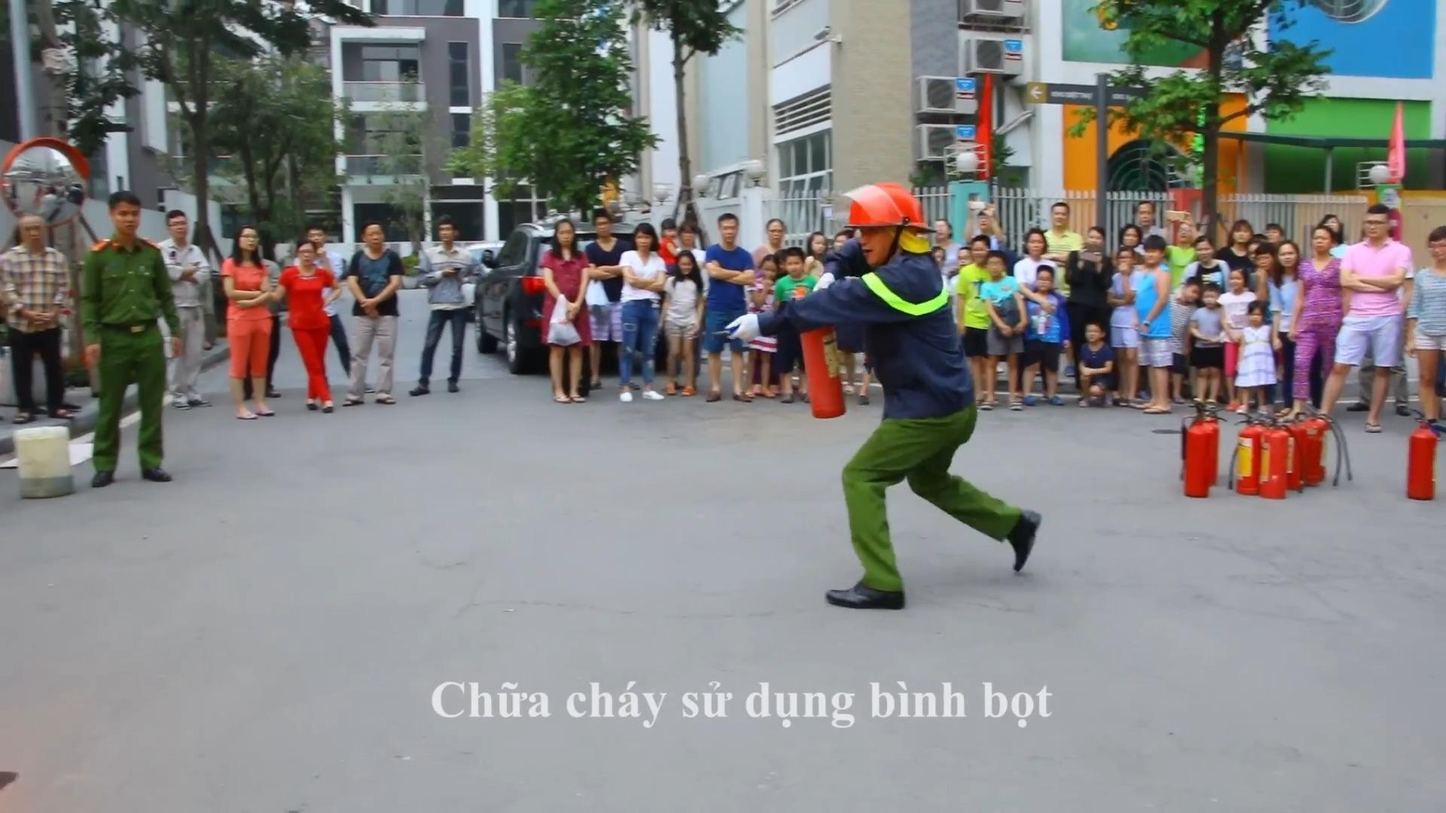FireExtinguisher: (786, 300, 851, 429), (1164, 397, 1230, 506), (1230, 405, 1296, 510), (1305, 397, 1364, 505), (1399, 405, 1446, 512)
